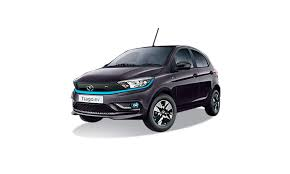Tiago: (66, 42, 229, 136)
